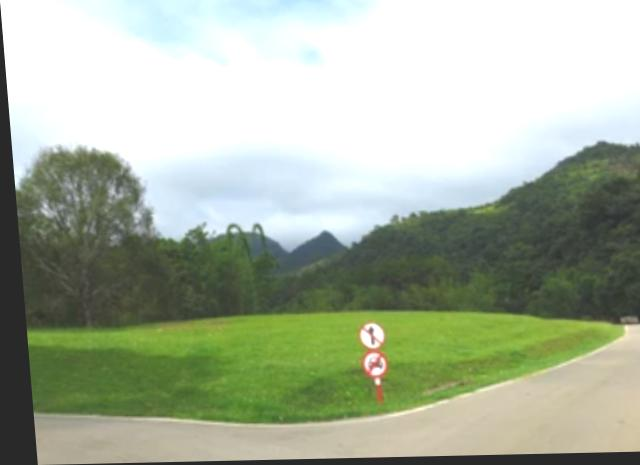not_go_straight: (353, 324, 379, 350)
